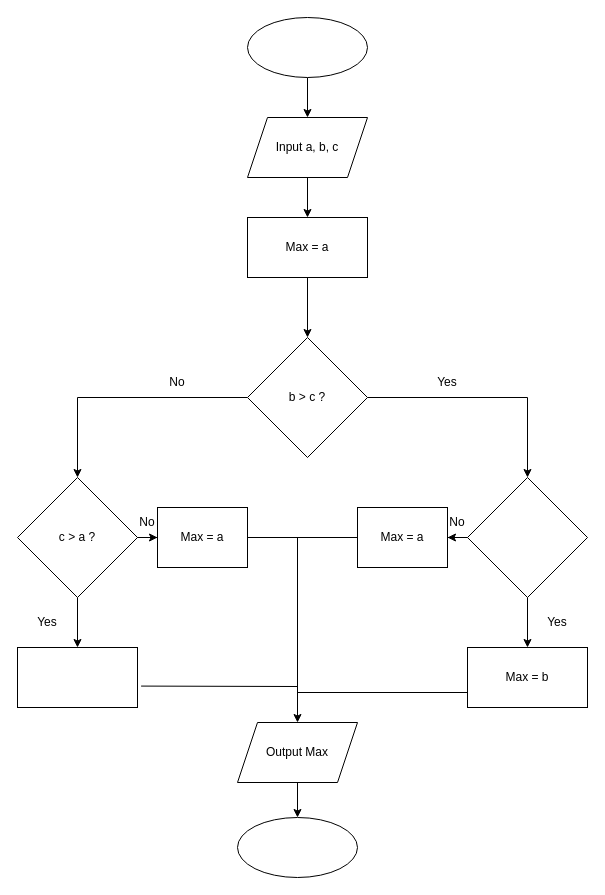
The diagram is 605 pixels wide and 895 high, and some of its shapes have lost their labels. Here are the shapes that lost their labels. From the top down, the centre of each, then its label:
At pixel 307 47: "Begin".
At pixel 527 537: "b > a ?".
At pixel 77 677: "Max = c".
At pixel 297 847: "End.".
